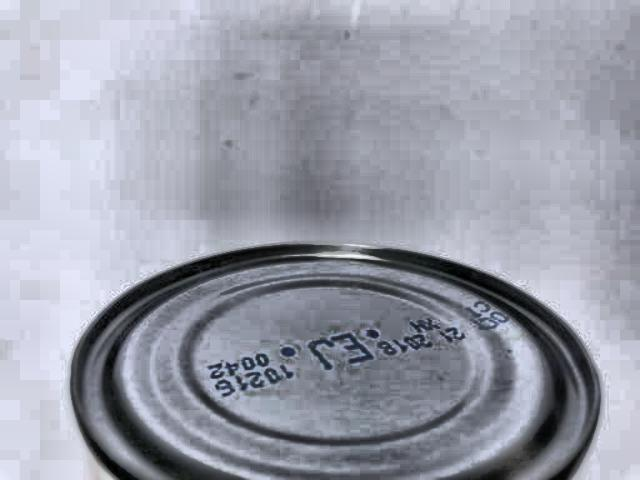Almennt: (73, 238, 605, 480)
